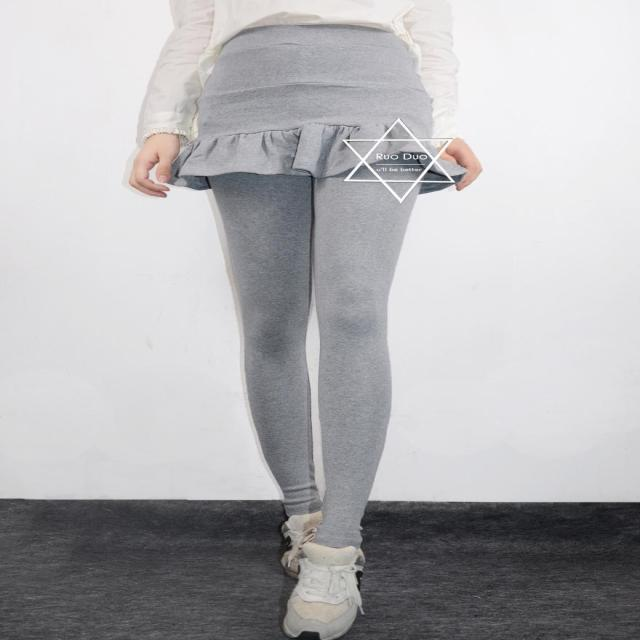skirt: (156, 27, 465, 176)
trousers: (211, 27, 420, 545)
